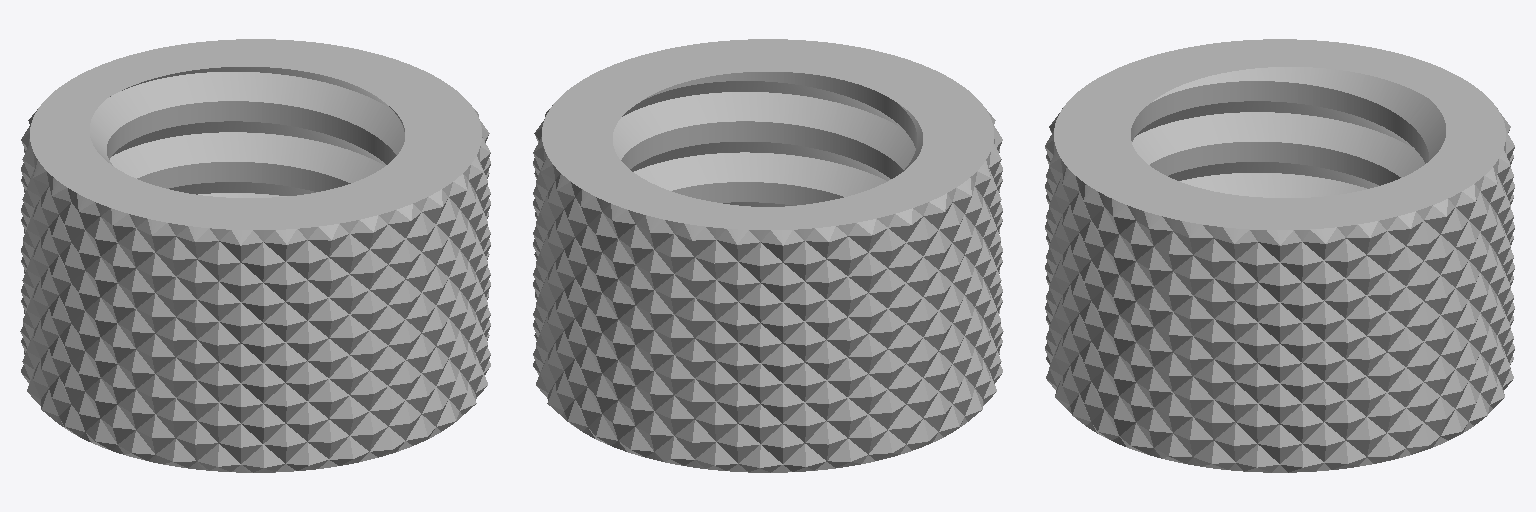
The robot description file, URDF, robot "root":
<?xml version='1.0' encoding='utf-8'?>
<robot name="root">
  <link name="link_001">
    <visual>
      <origin xyz="0 0 0" rpy="0 0 0" />
      <geometry>
        <mesh filename="feb6a9bc2727541da88bbcd08482ef4c39d8b55052286a67f463c9b370d9e8c6_scale_001.stl" scale="1.0000E+00 1.0000E+00 1.0000E+00" />
      </geometry>
      <material name="">
        <color rgba="7.50E-01 7.50E-01 7.50E-01 1" />
      </material>
    </visual>
    <collision>
      <origin xyz="0 0 0" rpy="0 0 0" />
      <geometry>
        <mesh filename="feb6a9bc2727541da88bbcd08482ef4c39d8b55052286a67f463c9b370d9e8c6_scale_001.stl" scale="1.0000E+00 1.0000E+00 1.0000E+00" />
      </geometry>
    </collision>
  </link>
</robot>

--- What the picture shows (computed from the rendered views, not written in the file) ---
The picture shows the robot from 3 angles, left to right: view 1: azimuth 30°, elevation 25°; view 2: azimuth 150°, elevation 25°; view 3: azimuth 270°, elevation 25°; orthographic projection.
Model root with 1 links and 0 joints (none), rooted at link_001, posed every joint at zero.
Visible links, largest first — view 1: link_001; view 2: link_001; view 3: link_001.
Link boxes in pixels (<box>): link_001: <box>20,39,490,472</box>; link_001: <box>533,39,1003,472</box>; link_001: <box>1045,39,1514,472</box>.
Bounding box of the posed robot: 0.1202 × 0.1202 × 0.0682 m (x, y, z).
1 mesh visuals loaded from 1 distinct referenced files (1 binary STL).
